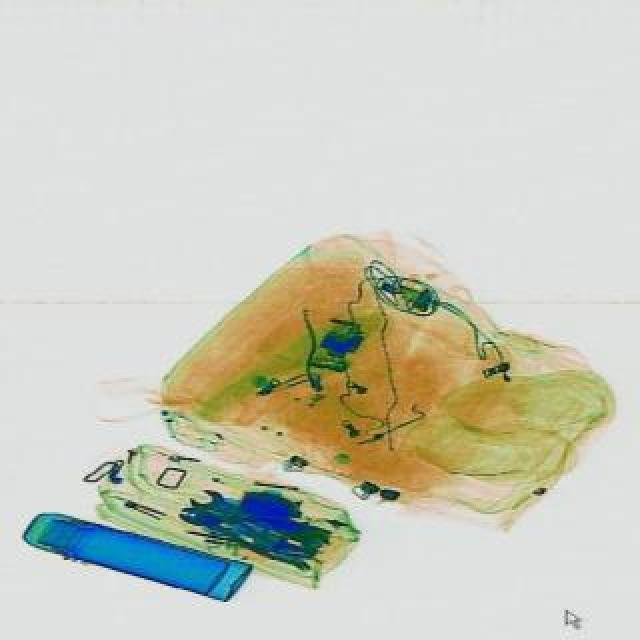scissors: (184, 482, 288, 540)
wrench: (172, 486, 314, 570)
